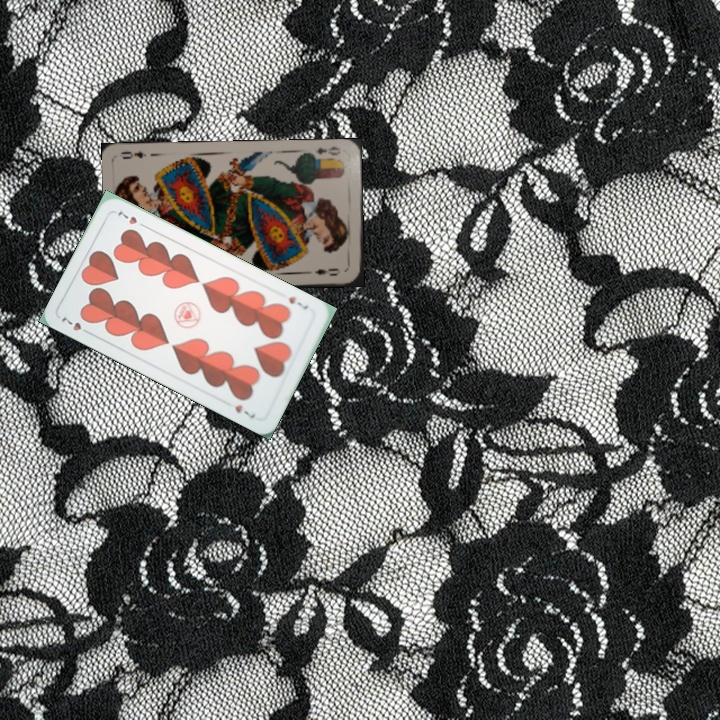EO: (312, 142, 343, 158)
H7: (57, 313, 94, 337), (284, 292, 311, 313)
